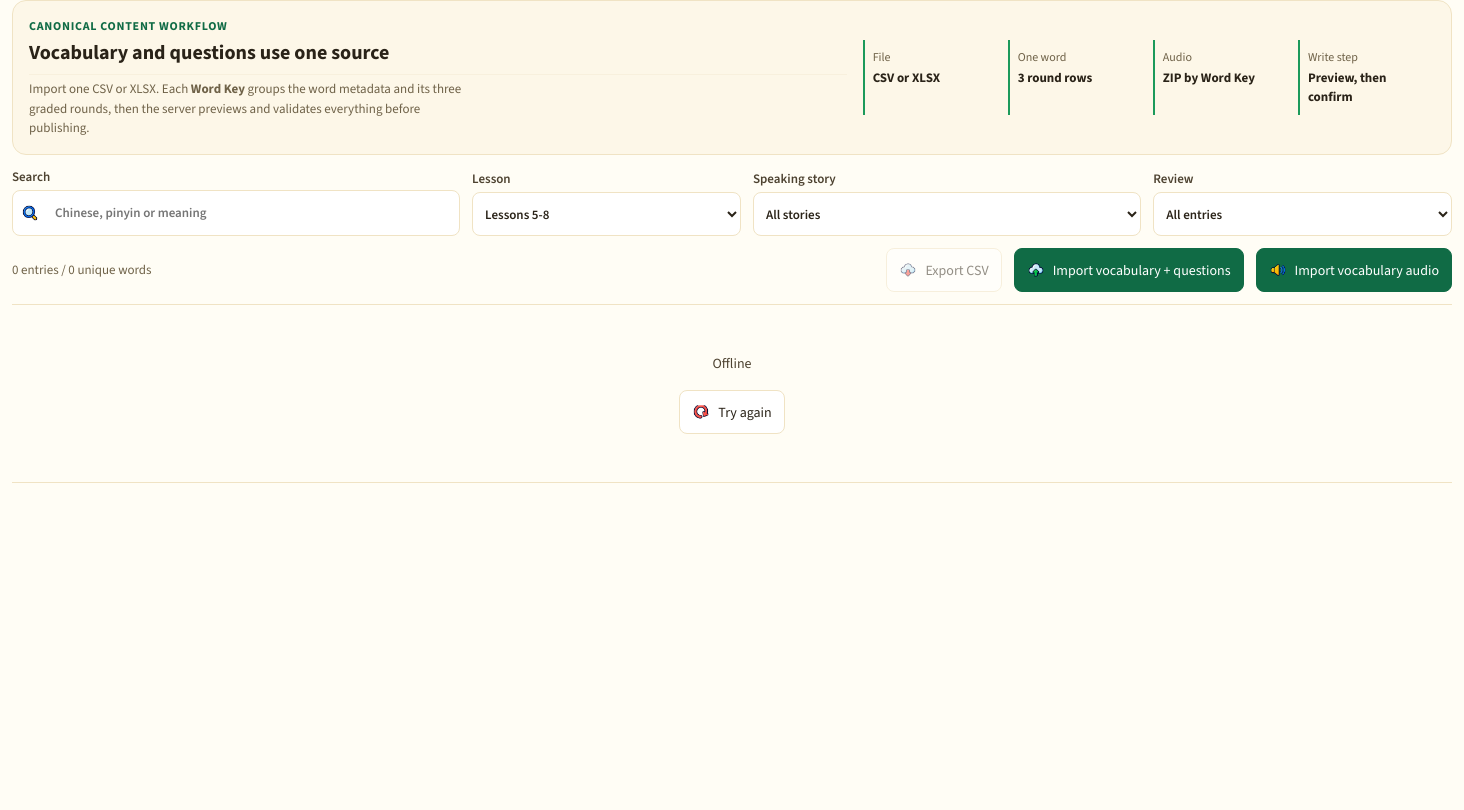
Test: Admin vocabulary page › retries loading and handles an empty database
Expected: the message shows "Offline", [712,354,752,373]
Click the button "Try again": (732, 412) [679,390,785,434]
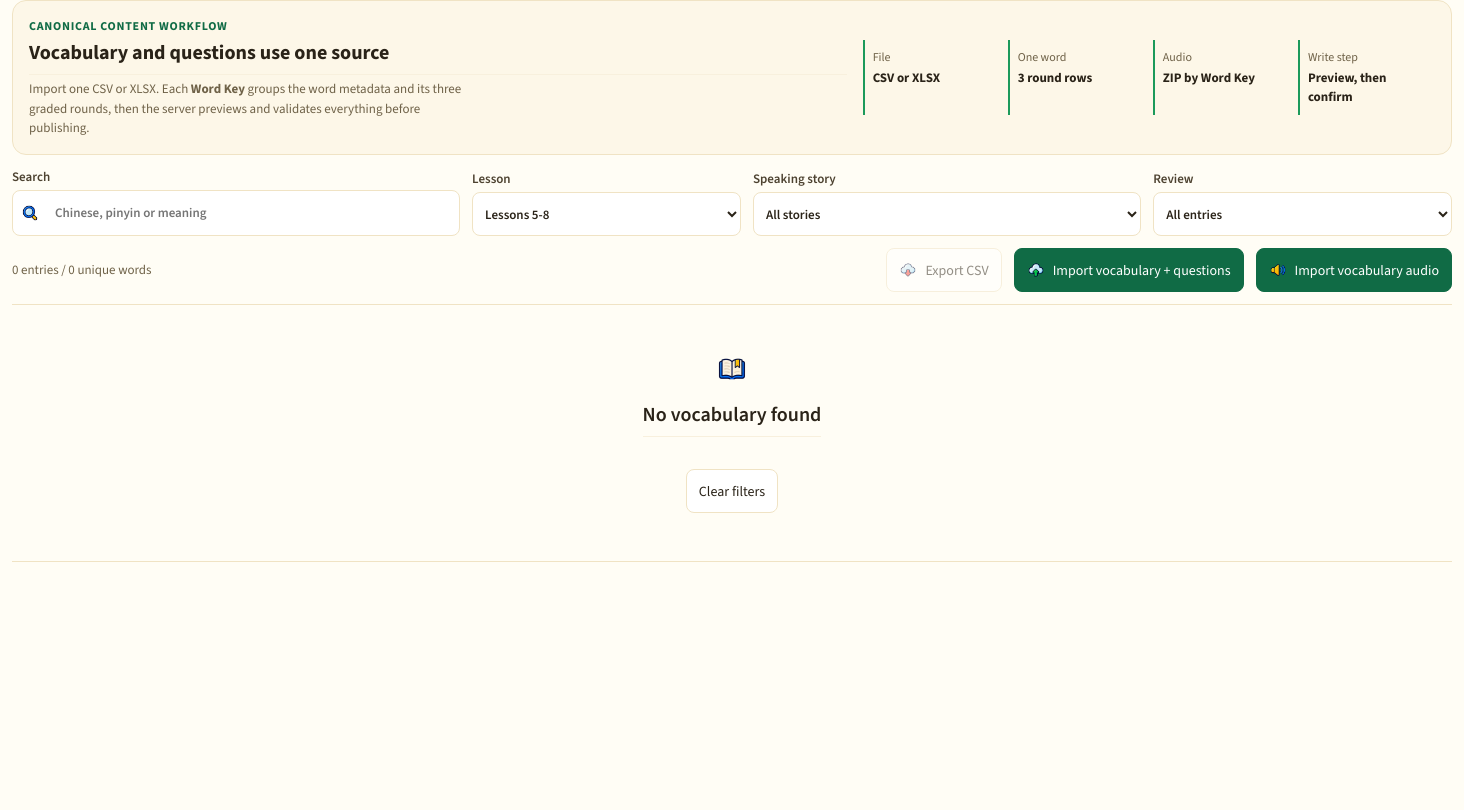
Expected: the button "Export CSV" is disabled, [886,248,1002,292]
Now the heading "No vocabulary found" is shown, box [643,401,821,437]
